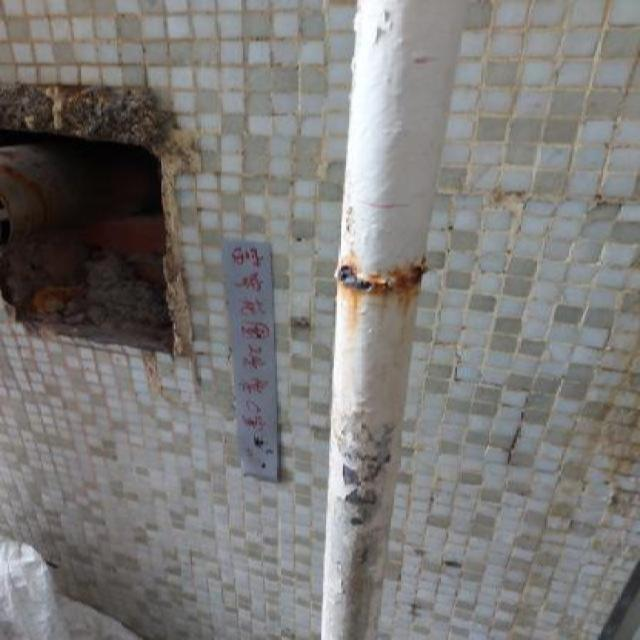rust: (335, 246, 427, 320)
